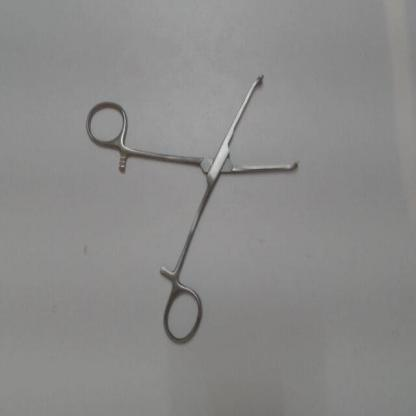Allis Tissue Forceps: (81, 59, 310, 353)
